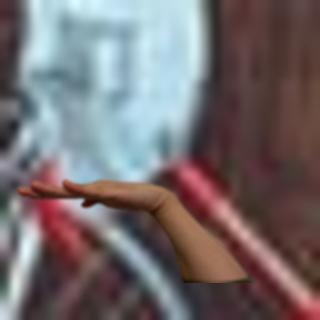WAIT: (10, 171, 174, 216)
